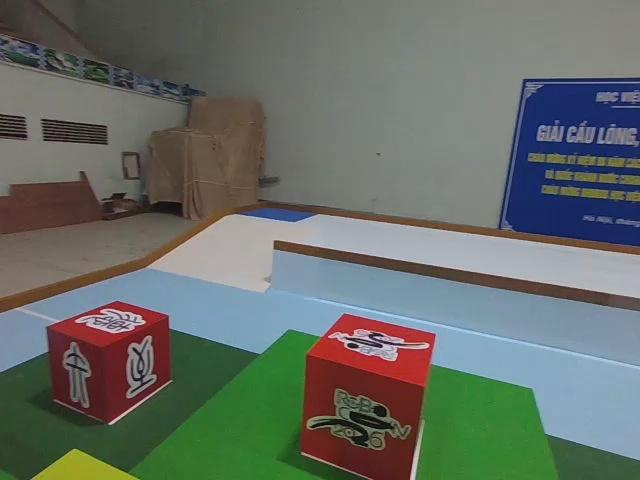R1: (299, 309, 438, 480)
R2 Fake: (44, 297, 174, 424)
